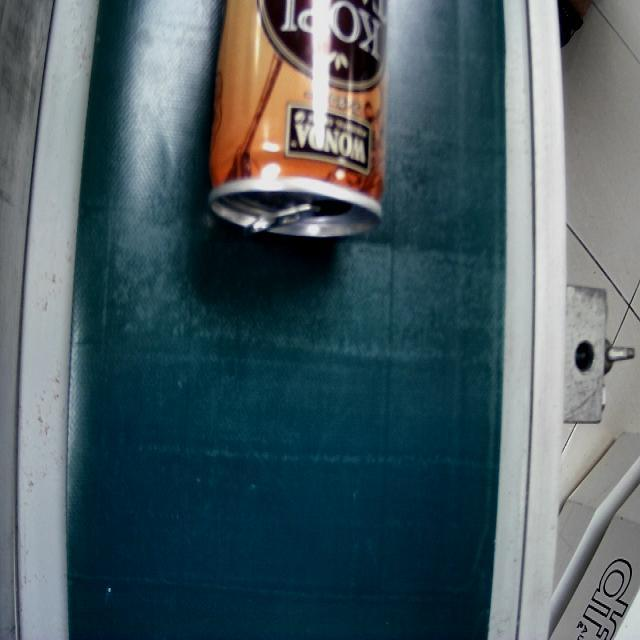can: (210, 0, 391, 243)
